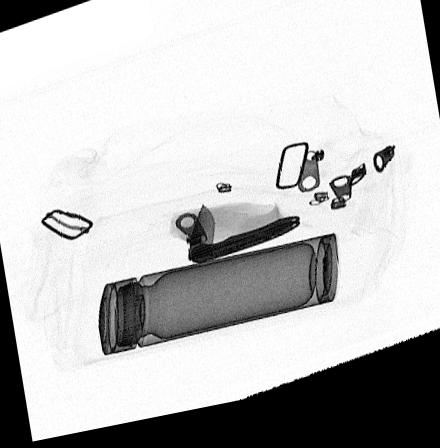Knife: (186, 208, 303, 274)
